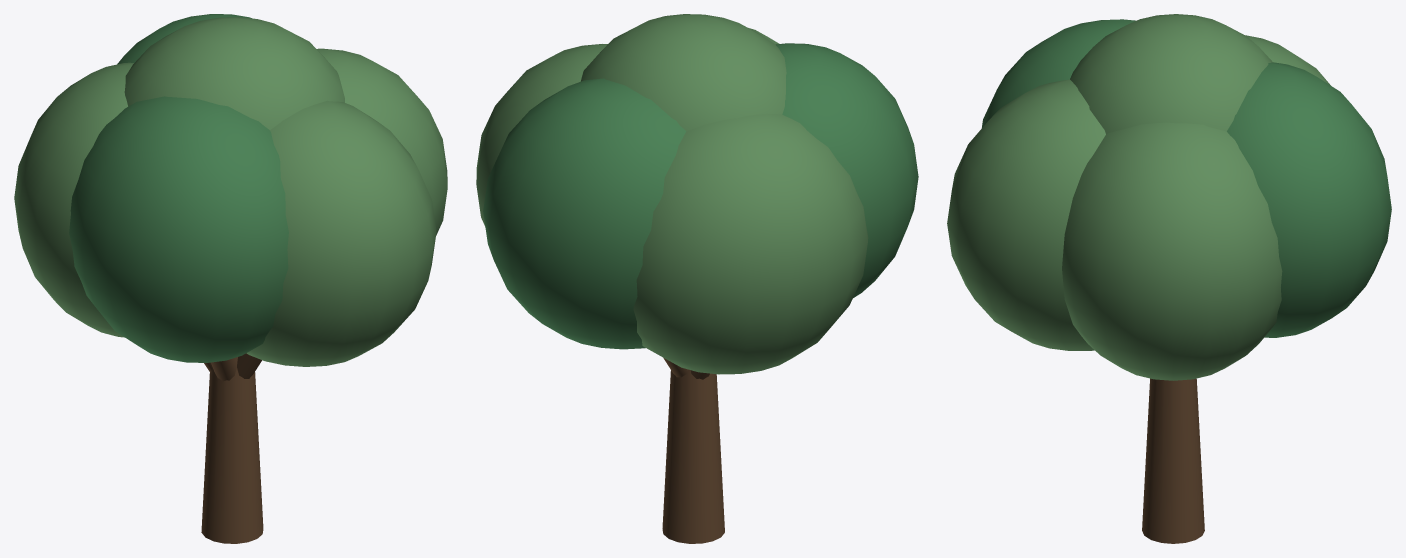
The model's file is oak.glb.
3 views of the same model, side by side, from view 1: azimuth 30°, elevation 25°; view 2: azimuth 150°, elevation 25°; view 3: azimuth 270°, elevation 25° (orthographic).
Parts seen in each view (by area): view 1: oak; view 2: oak; view 3: oak.
Part boxes in pixels (x1,y1,x2,y2): oak: (14, 14, 447, 543); oak: (476, 14, 918, 543); oak: (947, 14, 1391, 543).
Size of the model in its own units: 3.22 by 4.07 by 3.25.
